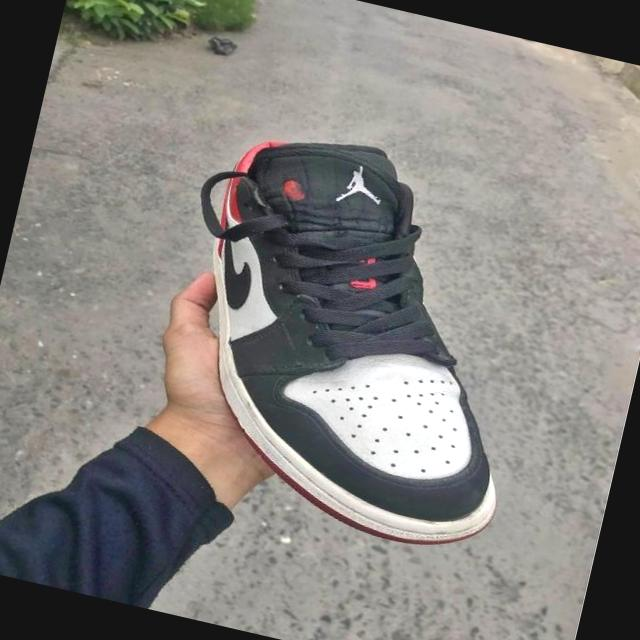nike_original_jordan: (153, 112, 574, 562)
